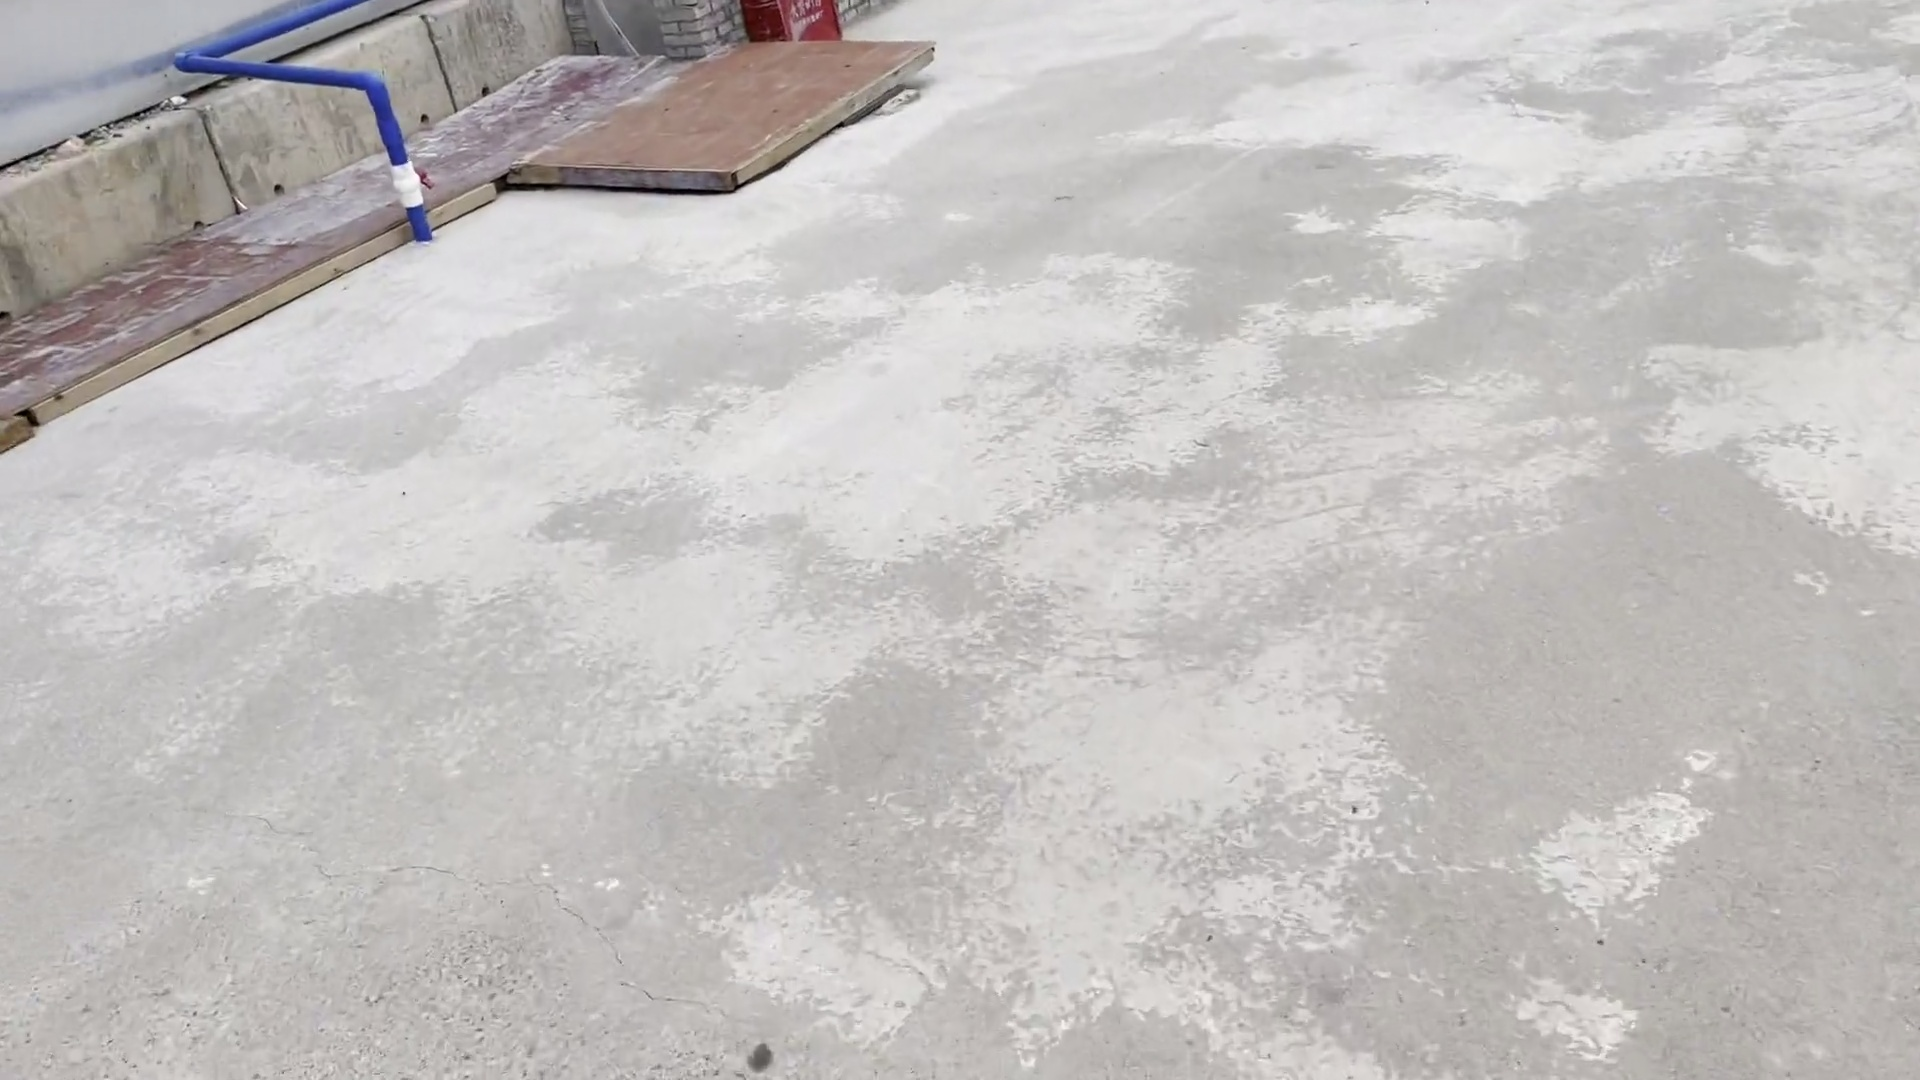board: (3, 37, 994, 462)
brick: (558, 3, 744, 74)
